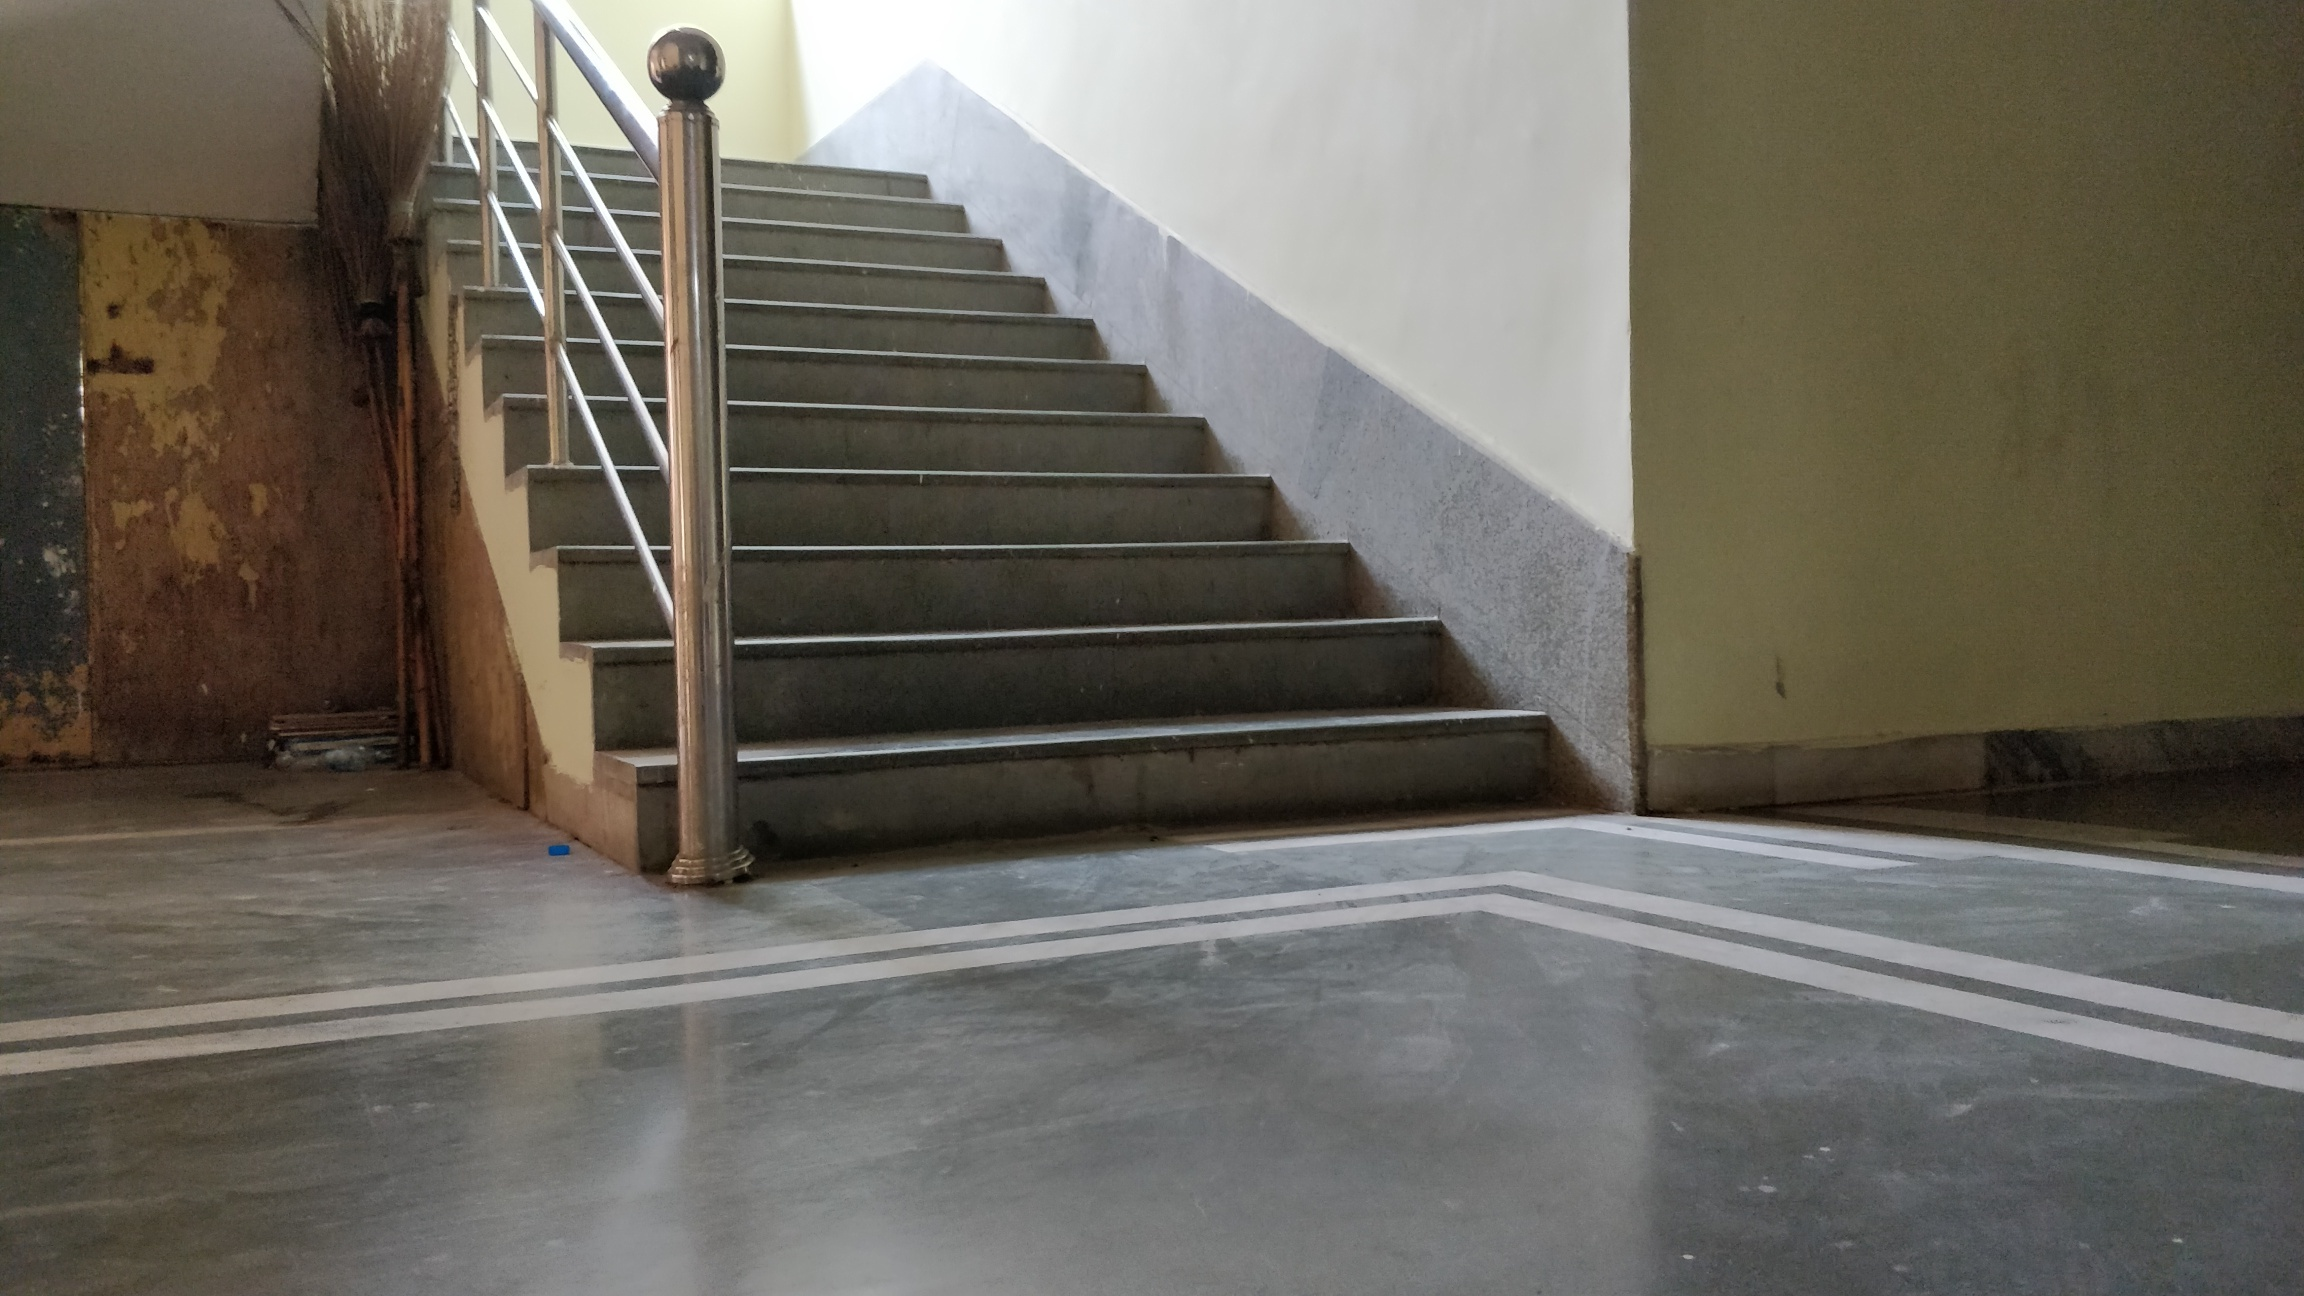stairs_up: (392, 117, 1560, 848)
